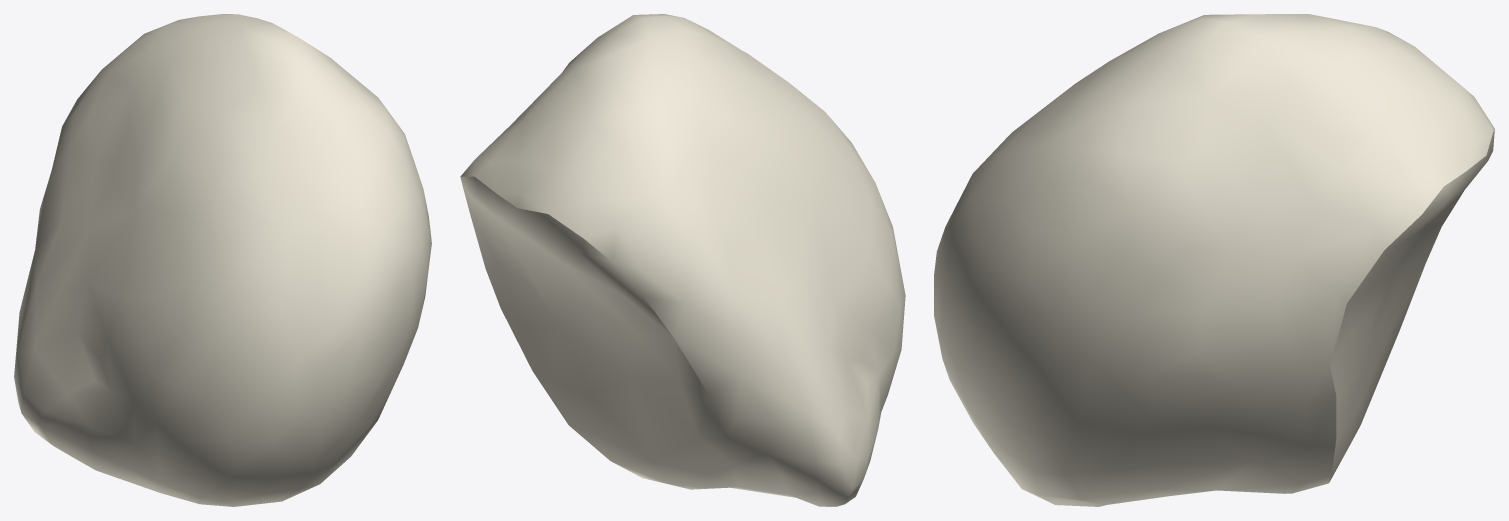
The model's file is fma24442_mm1888m.glb.
The picture shows the model from 3 angles, left to right: view 1: azimuth 30°, elevation 25°; view 2: azimuth 150°, elevation 25°; view 3: azimuth 270°, elevation 25°; orthographic projection. The views are drawn at different scales.
Parts seen in each view (by area): view 1: FMA24442_MM1888M; view 2: FMA24442_MM1888M; view 3: FMA24442_MM1888M.
Part boxes in pixels (x1,y1,x2,y2): FMA24442_MM1888M: [14, 14, 431, 506]; FMA24442_MM1888M: [460, 14, 905, 506]; FMA24442_MM1888M: [934, 14, 1494, 506].
Bounding box in the file's own units: 0.00929 × 0.011 × 0.0107.
